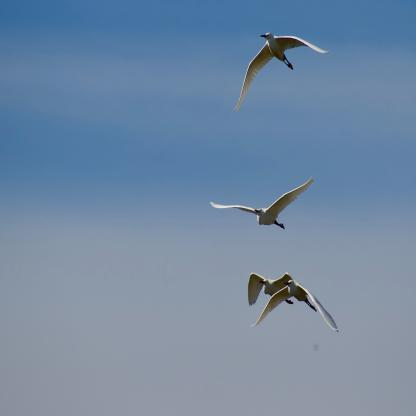bird: (233, 31, 329, 112), (208, 178, 314, 230), (251, 280, 339, 333), (247, 272, 293, 306)
